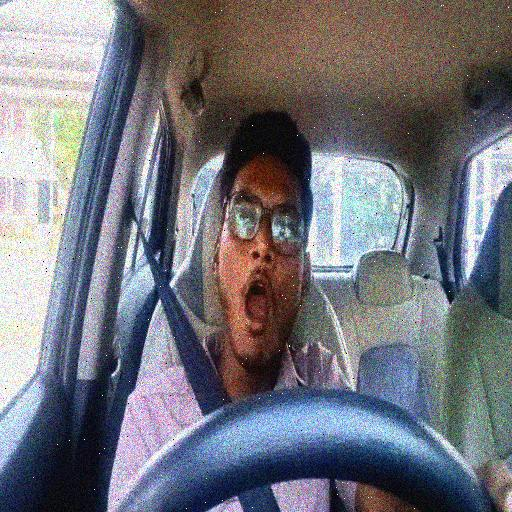yawns: (207, 110, 316, 380)
